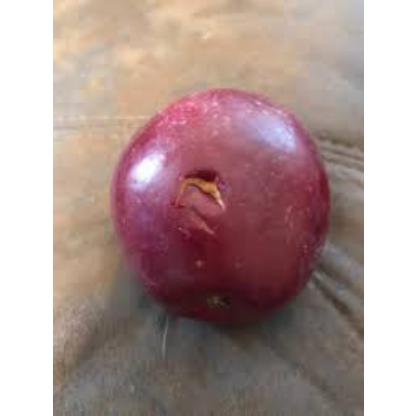apple: (104, 78, 336, 324)
